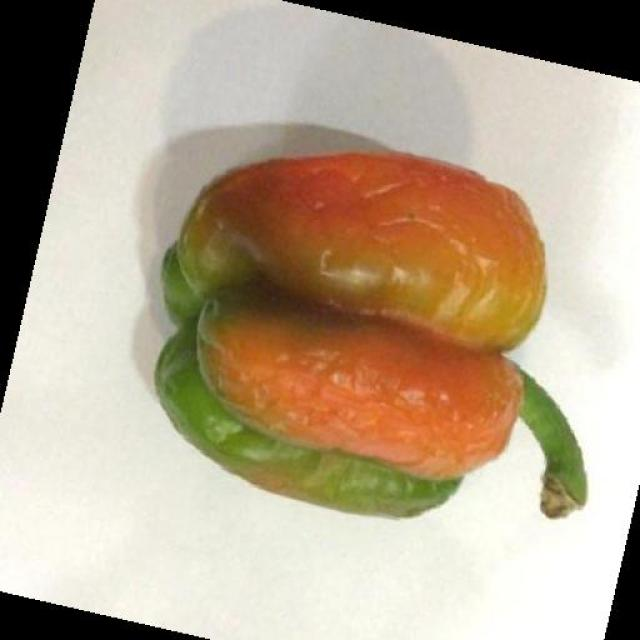Stale_Capsicum: (164, 88, 575, 577)
